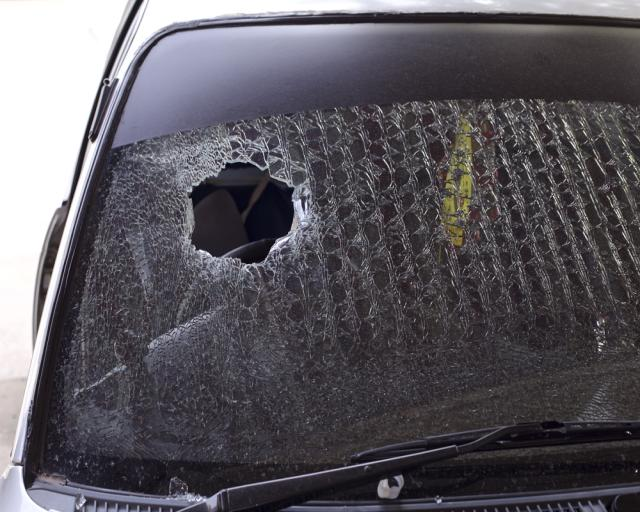glass shatter: (26, 19, 640, 504)
